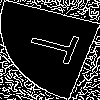T: (25, 25, 92, 69)
